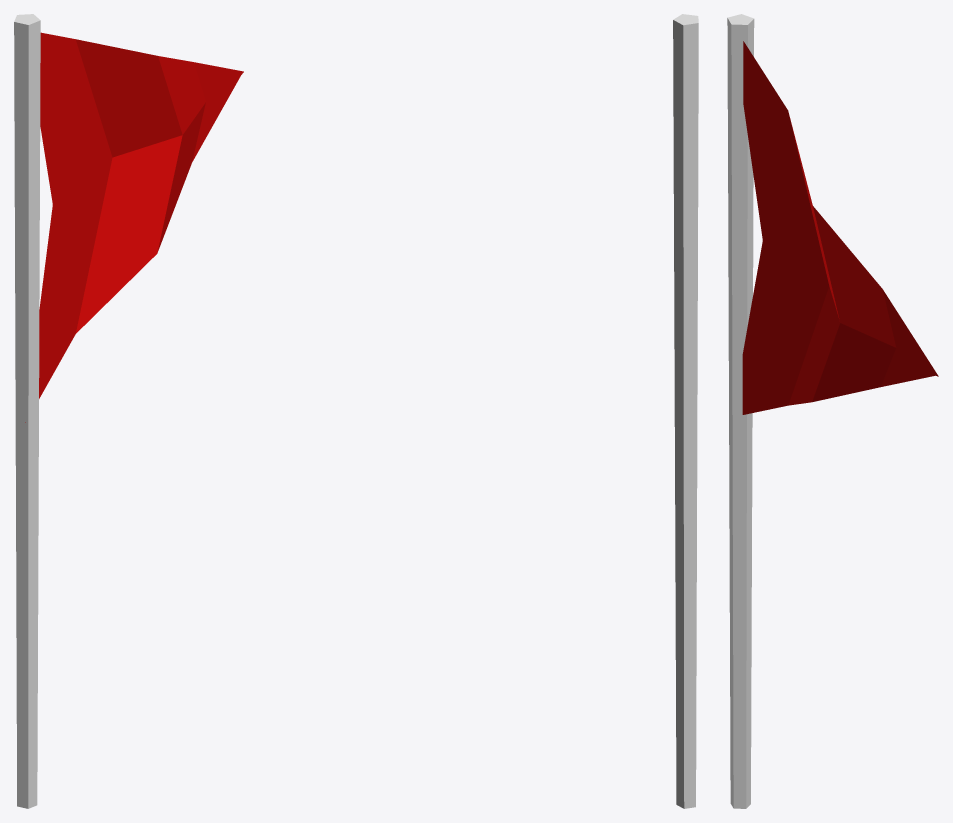
Rendered from Flag.glb.
3 views of the same model, side by side, from view 1: azimuth 30°, elevation 25°; view 2: azimuth 150°, elevation 25°; view 3: azimuth 270°, elevation 25° (orthographic).
Parts seen in each view (by area): view 1: Cylinder; view 2: Cylinder; view 3: Cylinder.
Part boxes in pixels (x1,y1,x2,y2): Cylinder: (14,14,243,808); Cylinder: (673,14,698,808); Cylinder: (727,14,938,808).
Bounding box in the file's own units: 1.12 × 2.56 × 0.6239.
